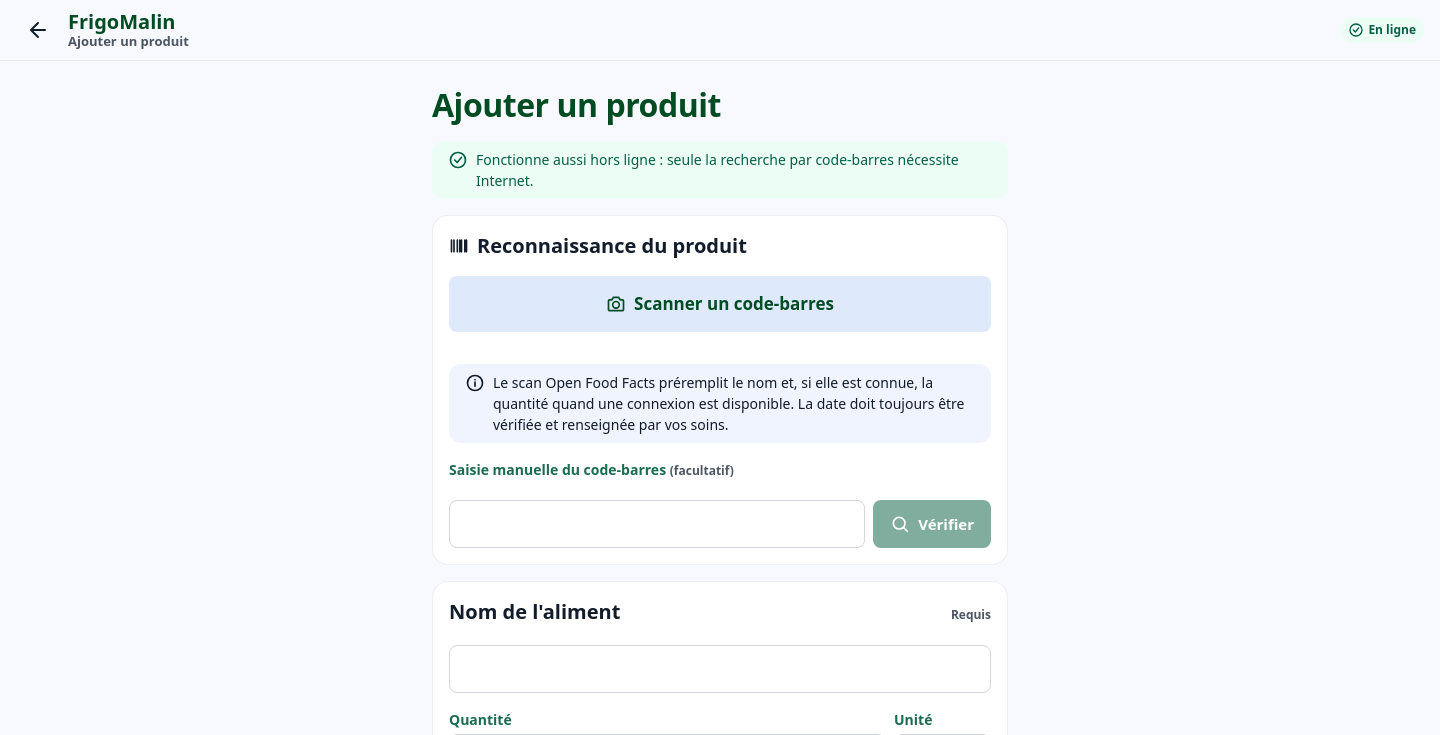
affiche un message adapté au statut offline et laisse le nom vide
The image size is (1440, 735).
Type "3017620422003" into the field labelled "Saisie manuelle du code-barres (facultatif)". click: (657, 524)
box: [449,500,865,548]
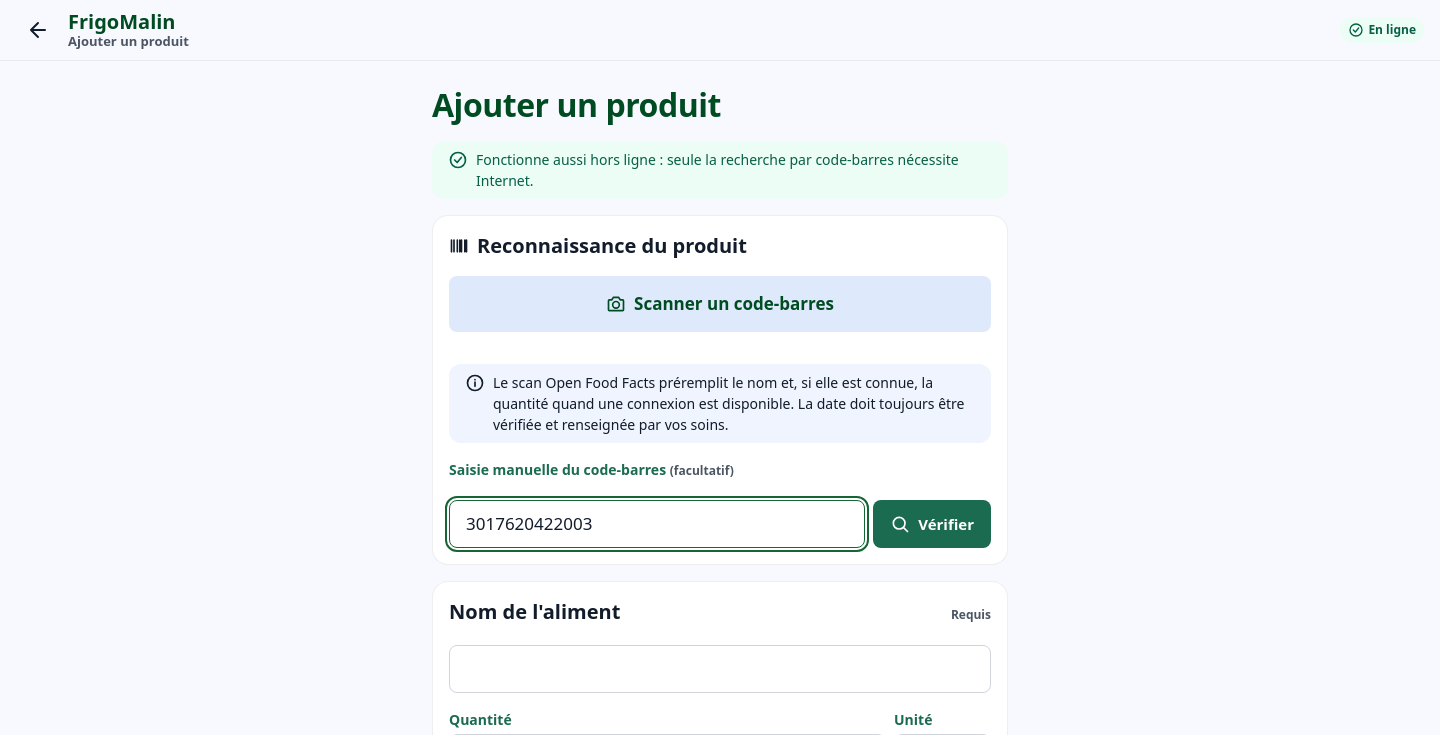
Click the button "Vérifier". click: (932, 524)
box: [873,500,991,548]
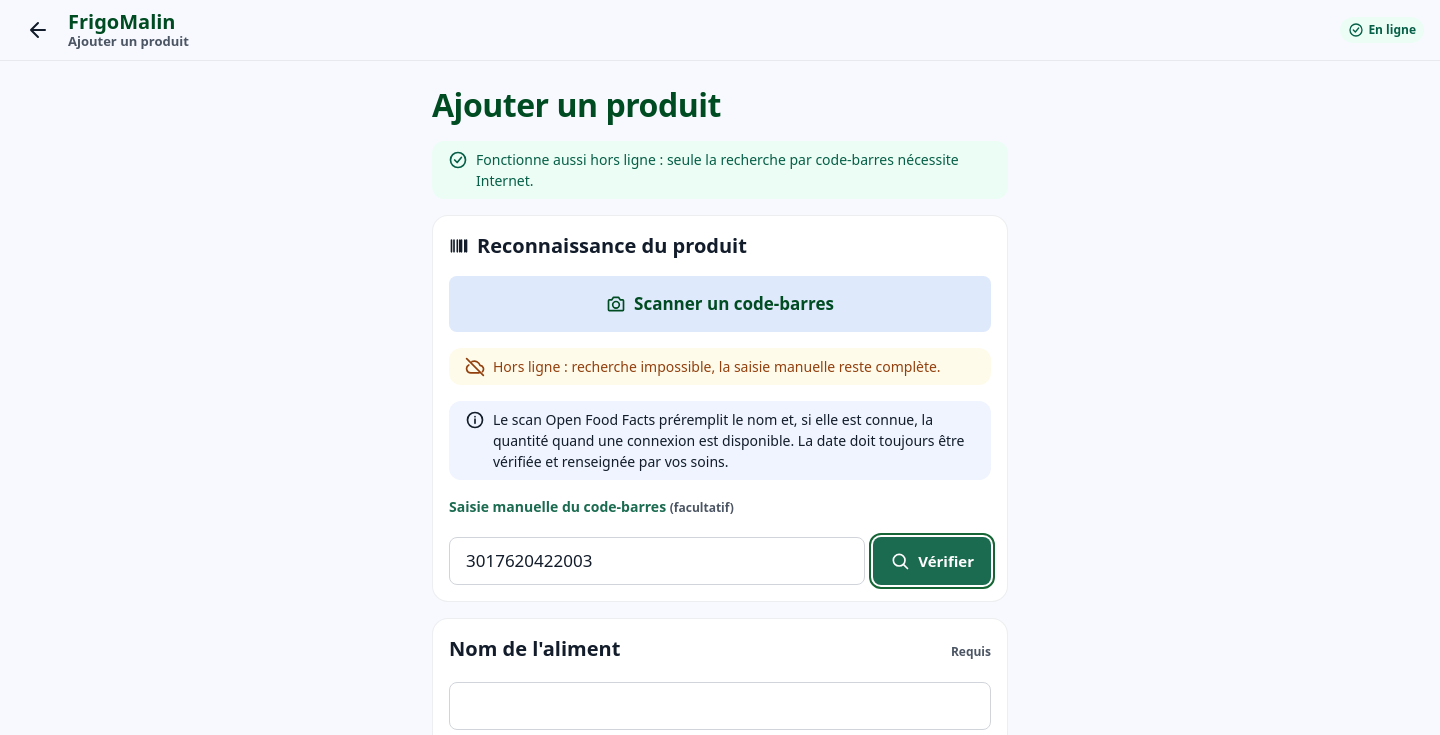
Check: the field labelled "Nom de l'aliment Requis" is empty, box [449,682,991,730]
Check: the text "Hors ligne : recherche impossible, la saisie manuelle reste complète." is shown, box [493,356,941,377]
